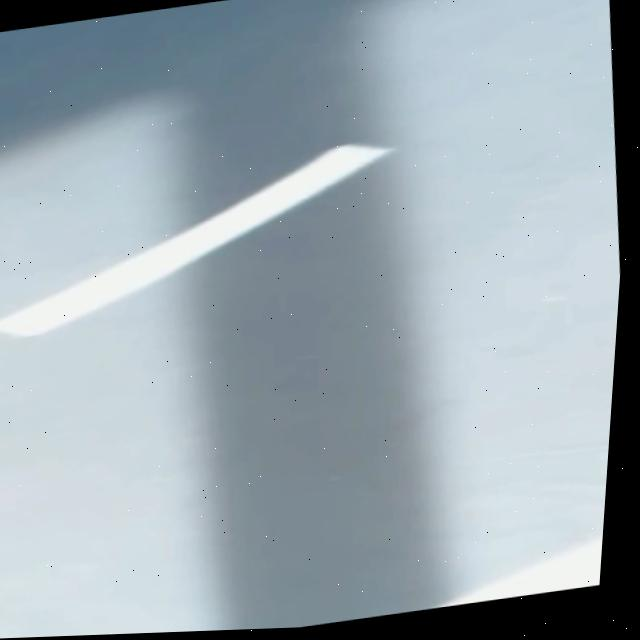center: (0, 145, 392, 335)
